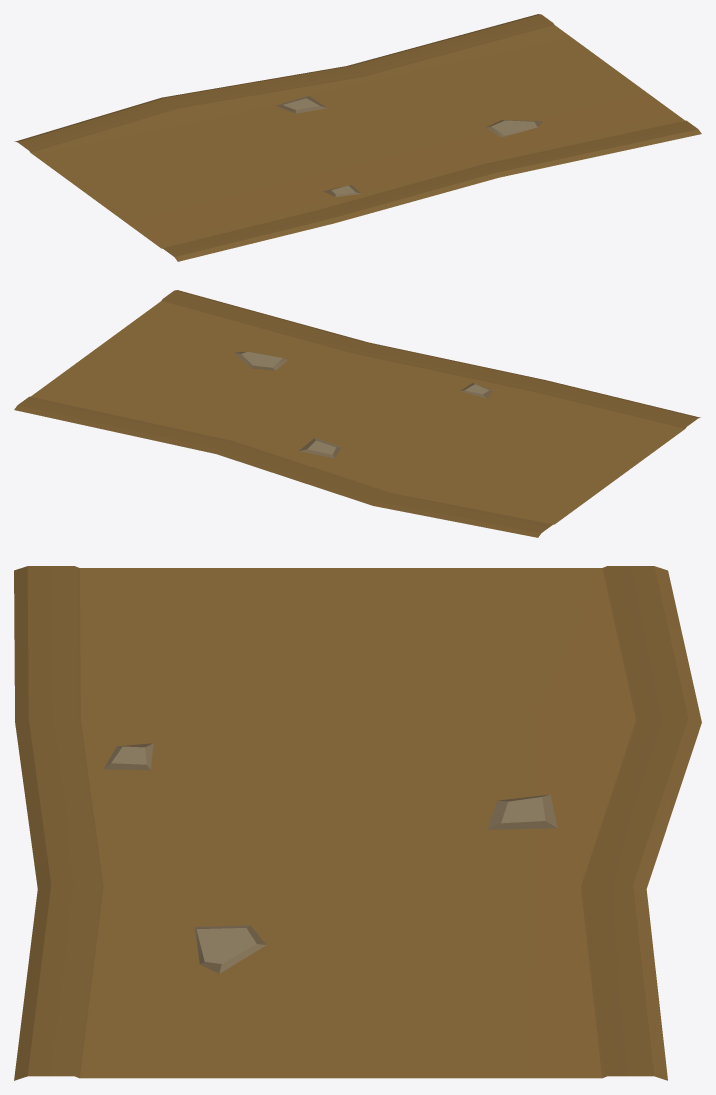
File: Path_Straight_05.gltf
The picture shows the model from 3 angles, top to bottom: view 1: azimuth 30°, elevation 25°; view 2: azimuth 150°, elevation 25°; view 3: azimuth 270°, elevation 25°; orthographic projection. The views are drawn at different scales.
Visible parts, largest first — view 1: SF_Env_Path_Straight_06; view 2: SF_Env_Path_Straight_06; view 3: SF_Env_Path_Straight_06.
Part boxes in pixels (<box>): SF_Env_Path_Straight_06: <box>14,14,701,261</box>; SF_Env_Path_Straight_06: <box>14,290,700,537</box>; SF_Env_Path_Straight_06: <box>14,566,701,1080</box>.
Size of the model in its own units: 0.1 by 0.000405 by 0.057.
1 material, 1 textured.
